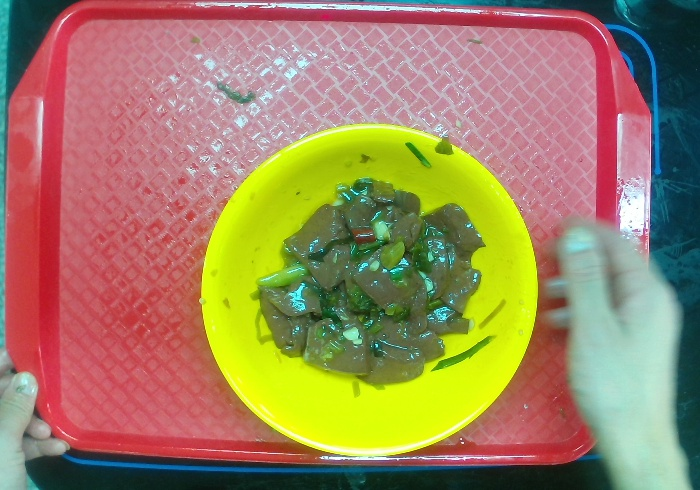YKMZ-Huang_Se_Tang_Wan: (192, 120, 543, 459)
